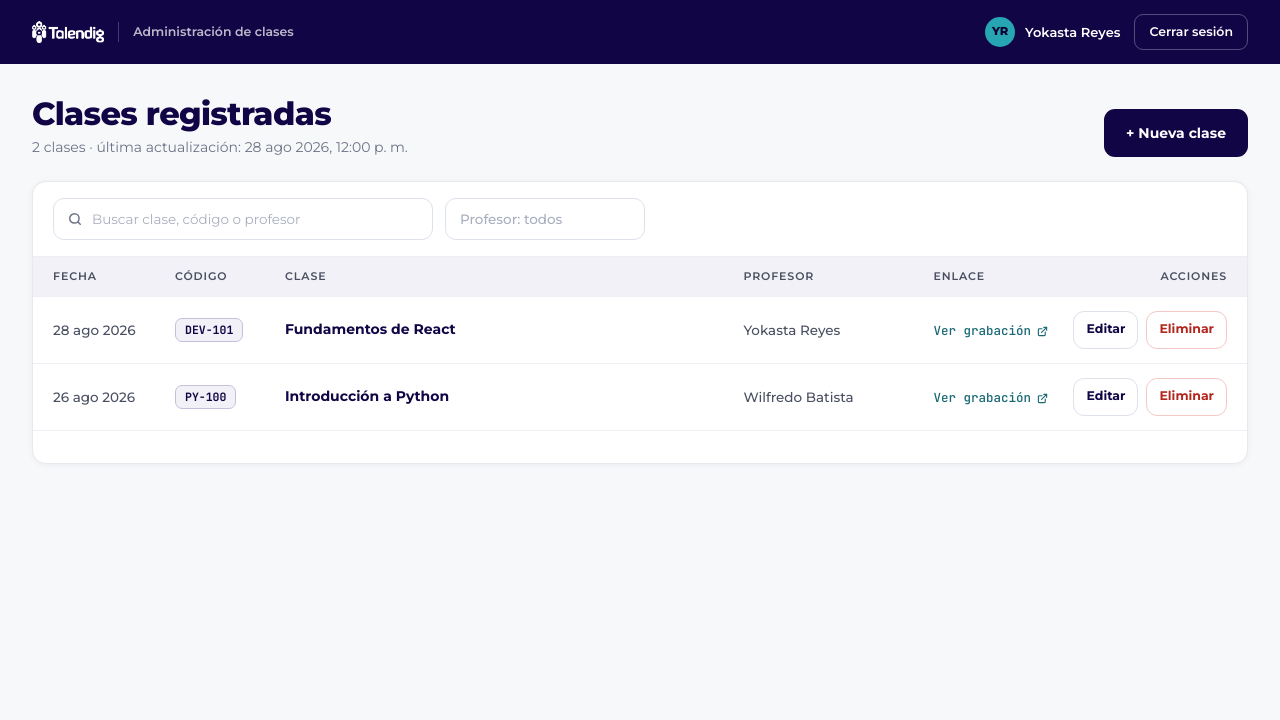
Test: AdminDashboardPage › asks for confirmation before deleting and names the class
The width and height of the screenshot is (1280, 720).
Check: the text "2 clases · última actualización: 28 ago 2026, 12:00 p. m." is shown, box [32,137,408,157]
Click the button "Eliminar" in the row of "DEV-101" at (1187, 330), box [1146,311,1227,349]
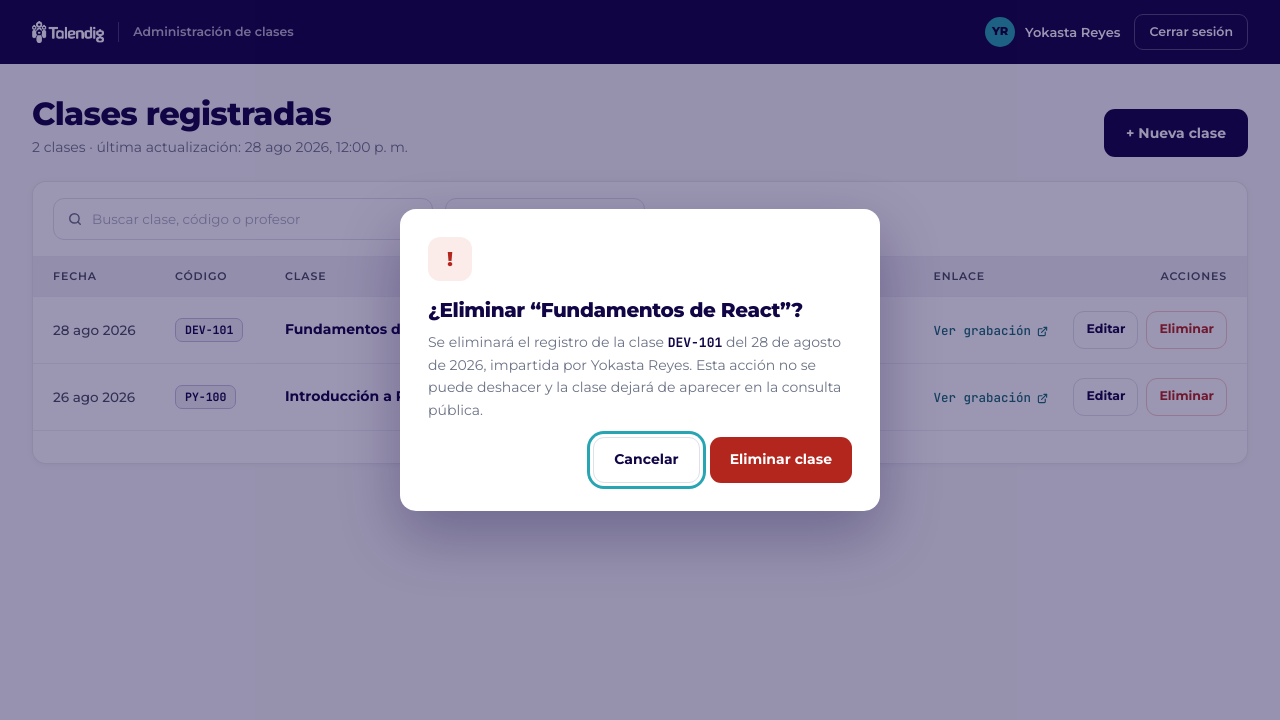
Check: the heading "¿Eliminar “Fundamentos de React”?" is shown, box [428,297,852,323]
